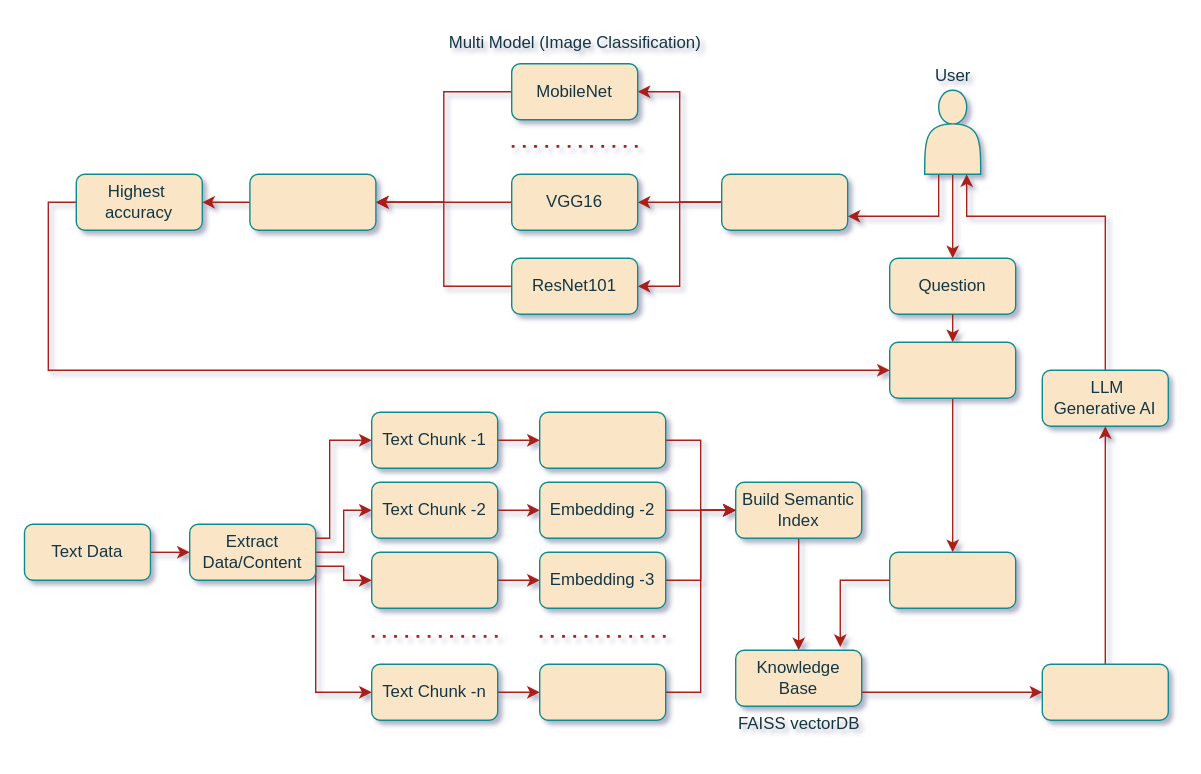
This 1201x774 diagram has some shape labels left out. The shapes that lost their labels are listed below. From the top down, each one's box as (x1, y1, x2, y2) in pixels, then its label:
(248, 173, 376, 230): AVG
(720, 173, 848, 230): Image
(888, 341, 1016, 398): Query Embeddings
(538, 411, 666, 468): Embedding -1
(370, 551, 498, 608): Text Chunk -3
(888, 551, 1016, 608): Semantic Search
(538, 663, 666, 720): Embedding -n
(1041, 663, 1168, 720): Ranked Results
